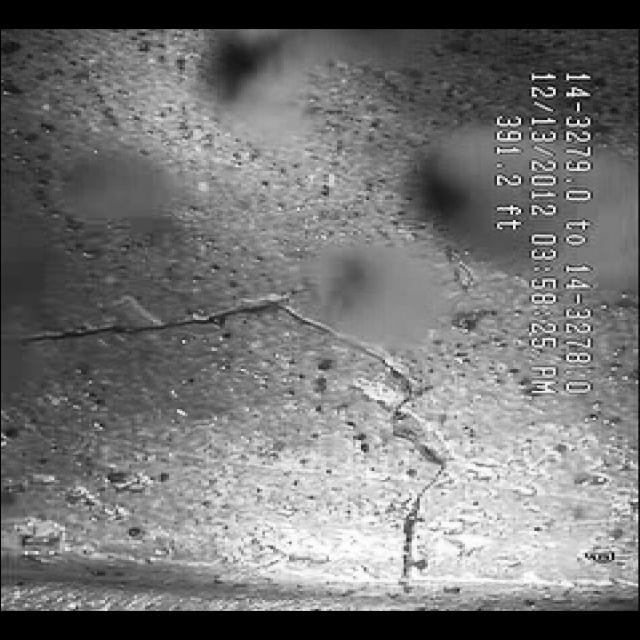Crack: (3, 294, 501, 574)
